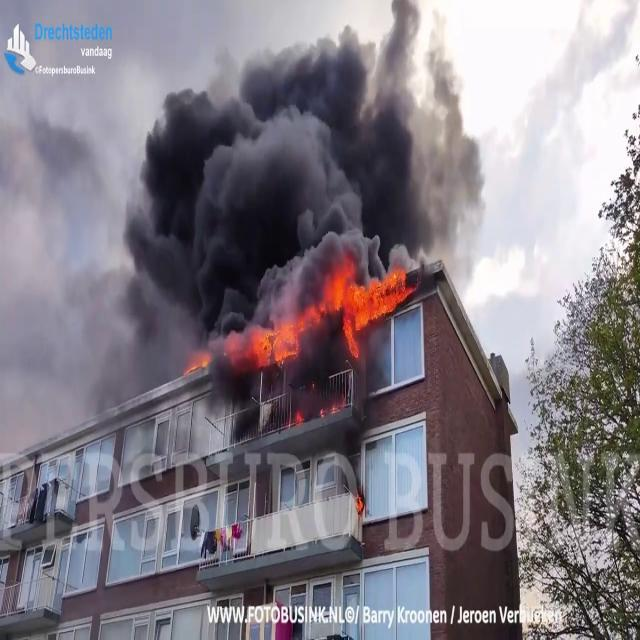Fire: (322, 262, 404, 348), (250, 316, 304, 368)
Smoke: (114, 3, 480, 284), (0, 76, 120, 455)
